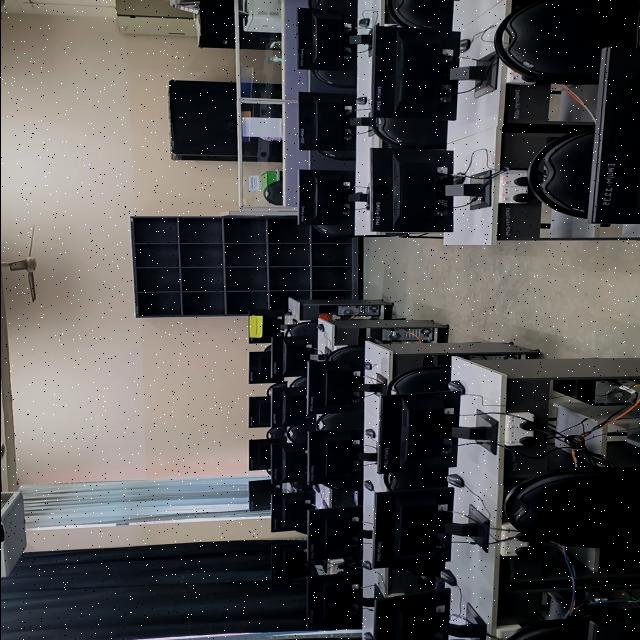Chair: (508, 466, 640, 552), (494, 0, 604, 82), (523, 135, 589, 216), (366, 120, 450, 146), (382, 0, 452, 29), (390, 367, 444, 392), (380, 472, 442, 489), (306, 70, 359, 88), (316, 415, 366, 433), (260, 180, 286, 206), (286, 319, 318, 337), (324, 344, 360, 358), (310, 223, 346, 235)
Cpu: (550, 375, 640, 406), (372, 329, 442, 342), (324, 304, 382, 316)
Monitor: (367, 33, 482, 117), (588, 50, 640, 226), (373, 152, 481, 234), (377, 391, 468, 471), (368, 489, 456, 567), (375, 594, 486, 640), (294, 12, 359, 72), (306, 574, 372, 630), (298, 360, 362, 416), (306, 508, 374, 558), (296, 172, 358, 224), (298, 96, 354, 152), (308, 432, 362, 484), (270, 490, 312, 532), (268, 542, 310, 582), (270, 338, 310, 378), (269, 446, 311, 482), (275, 388, 309, 426), (250, 355, 286, 383), (250, 311, 280, 342), (246, 396, 272, 428), (248, 479, 270, 515), (247, 440, 271, 470)
Mouse: (436, 568, 458, 588), (443, 378, 466, 394), (444, 474, 466, 488), (358, 478, 378, 492), (364, 428, 378, 438)
Projector: (0, 489, 29, 576)
